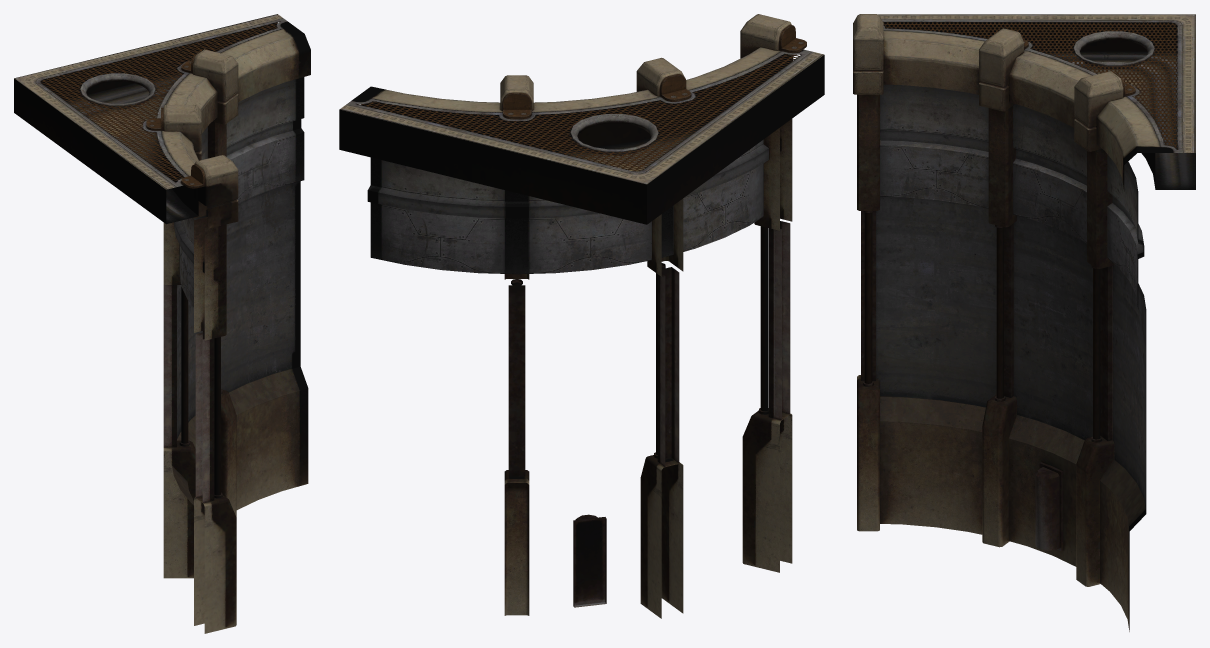
The model's file is 01_02_thermal_hole_pplant.dae.
The picture shows the model from 3 angles, left to right: view 1: azimuth 30°, elevation 25°; view 2: azimuth 150°, elevation 25°; view 3: azimuth 270°, elevation 25°; orthographic projection. The views are drawn at different scales.
Parts seen in each view (by area): view 1: 01_02_thermal_hole_pplant__2_; view 2: 01_02_thermal_hole_pplant__2_; view 3: 01_02_thermal_hole_pplant__2_.
Boxes of the visible parts, left/top/right/bottom form: 01_02_thermal_hole_pplant__2_: left=14, top=14, right=310, bottom=633; 01_02_thermal_hole_pplant__2_: left=339, top=14, right=824, bottom=618; 01_02_thermal_hole_pplant__2_: left=853, top=14, right=1195, bottom=631.
Size of the model in its own units: 8 by 13.5 by 8.38.
